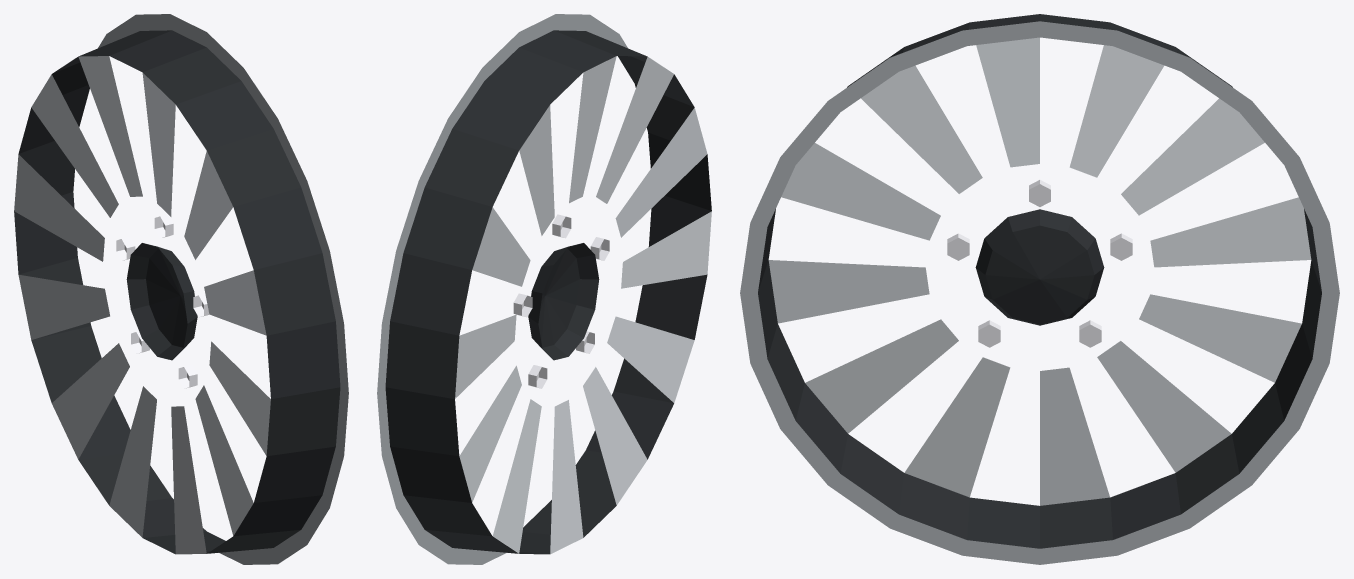
Rendered from rim_08_rally_multispoke.obj.
3 views of the same model, side by side, from view 1: azimuth 30°, elevation 25°; view 2: azimuth 150°, elevation 25°; view 3: azimuth 270°, elevation 25° (orthographic). The views are drawn at different scales.
Visible parts, largest first — view 1: rim_08_rally_multispoke; view 2: rim_08_rally_multispoke; view 3: rim_08_rally_multispoke.
Boxes of the visible parts, x1,y1,x2,y2 form: rim_08_rally_multispoke: [14, 14, 348, 564]; rim_08_rally_multispoke: [377, 14, 711, 564]; rim_08_rally_multispoke: [740, 14, 1339, 564].
Size of the model in its own units: 0.0687 by 0.525 by 0.525.
